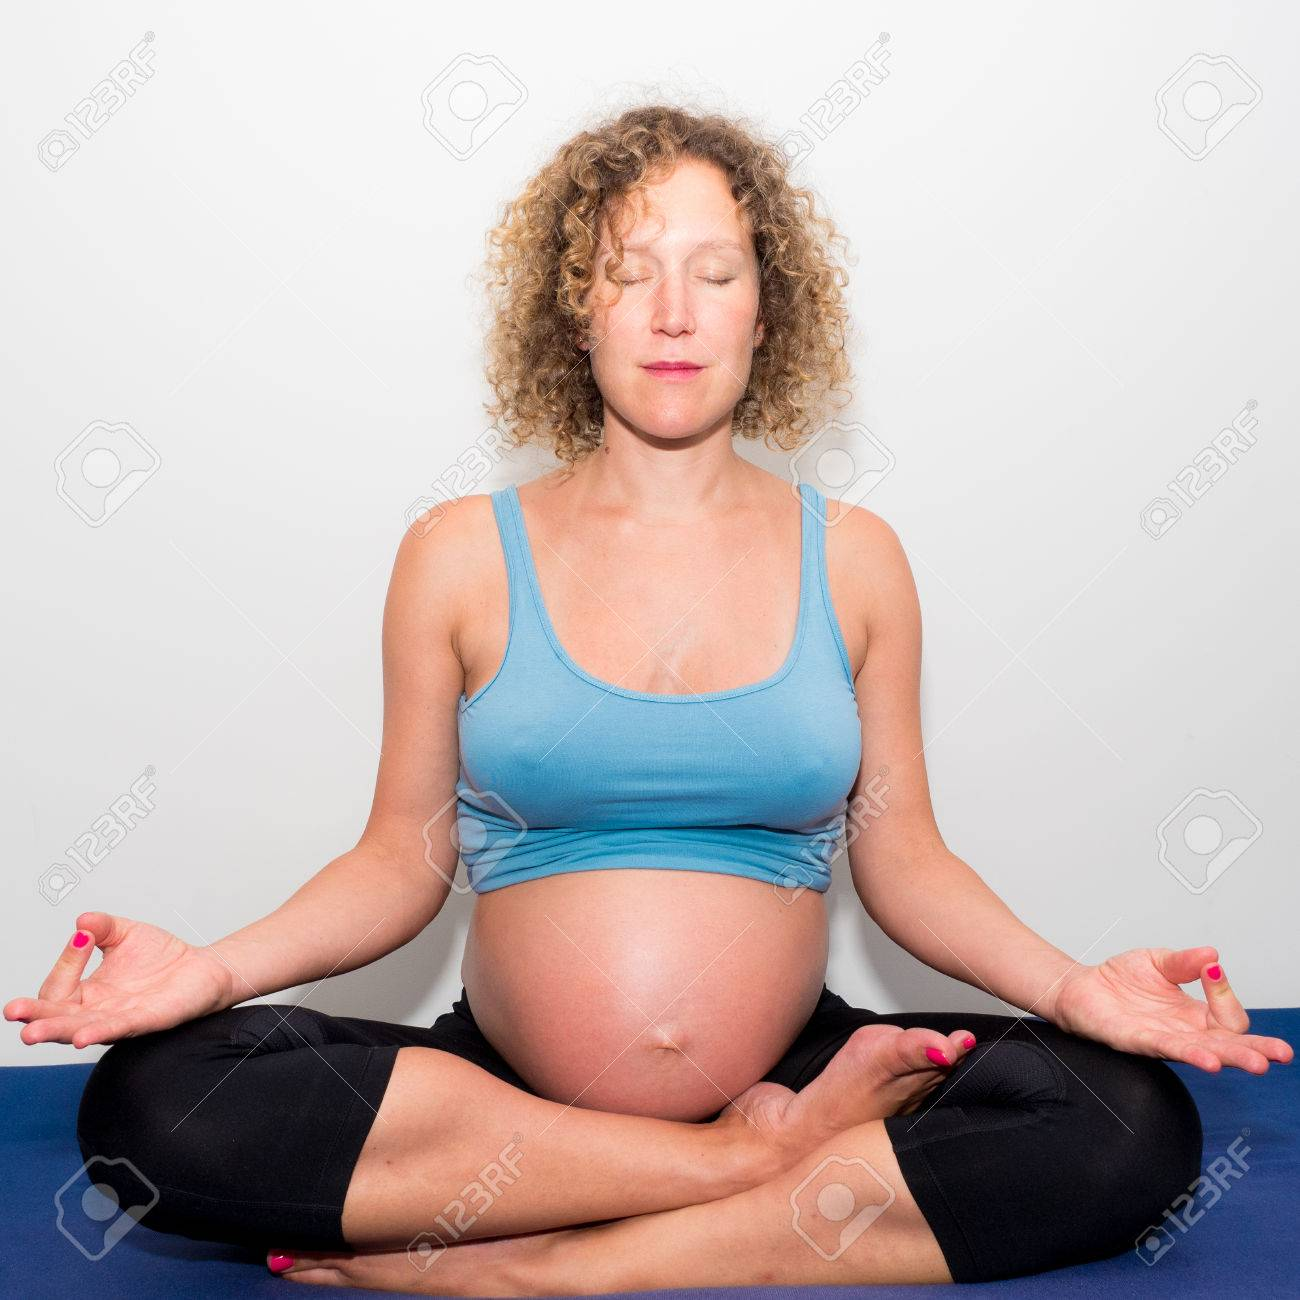hand: (1030, 920, 1300, 1094), (13, 888, 244, 1060)
